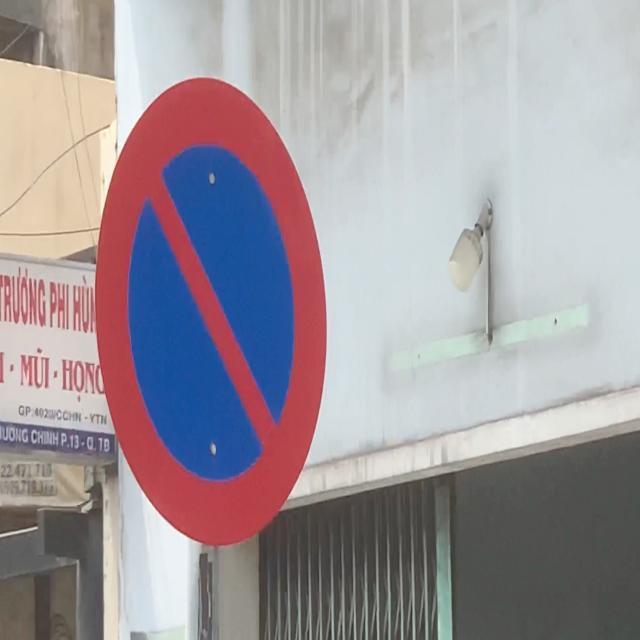Cam do: (94, 76, 328, 550)
